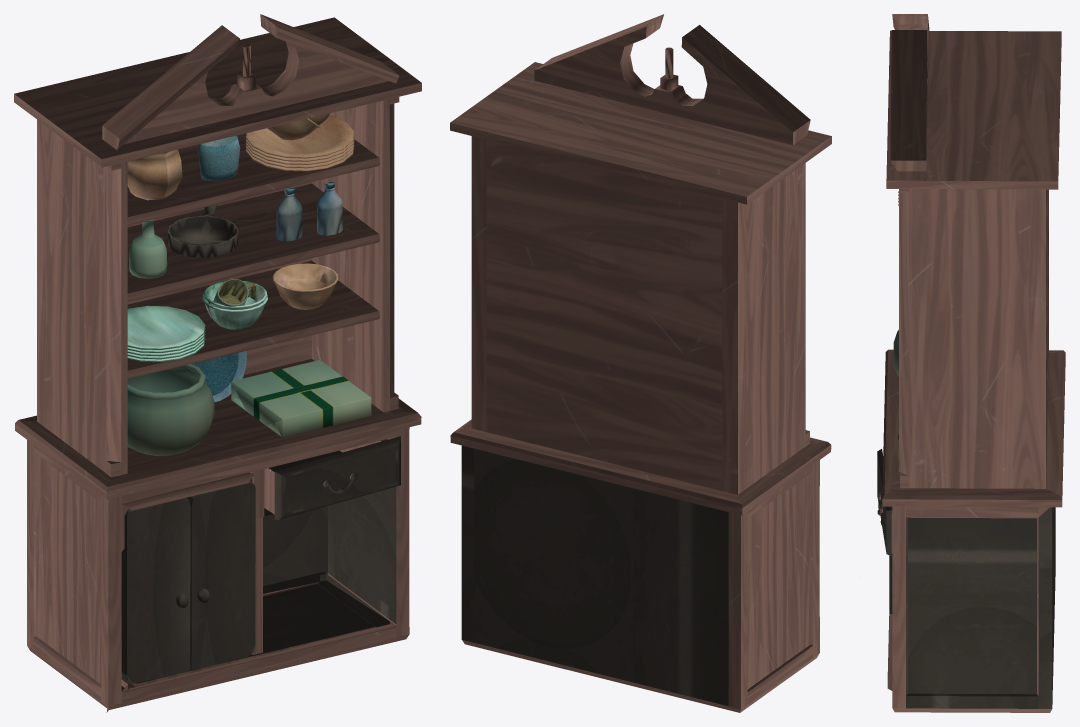
The model's file is Estante.obj.
The picture shows the model from 3 angles, left to right: view 1: azimuth 30°, elevation 25°; view 2: azimuth 150°, elevation 25°; view 3: azimuth 270°, elevation 25°; orthographic projection. The views are drawn at different scales.
Visible parts, largest first — view 1: FancyBureau01BASE_0, Cube, Mesh_0.014, giftbox_mis11_boxA01_box__A_giftbox_giftbox_mis11_boxA01_box__A, rdmobj01_model\om\om0, rdmobj01_model\om\om0.001, mdl_wpn200501_00_LOD0, bowl00__Bowl00.002, 628out, Model_GeneralStore_Bottle_02, Model_GeneralStore_Bottle_01, TeaPlate (+7 smaller); view 2: FancyBureau01BASE_0; view 3: FancyBureau01BASE_0.
Part boxes in pixels (bbox=[...]): FancyBureau01BASE_0: bbox=[14, 14, 421, 712]; Cube: bbox=[121, 481, 255, 683]; Mesh_0.014: bbox=[127, 364, 214, 456]; giftbox_mis11_boxA01_box__A_giftbox_giftbox_mis11_boxA01_box__A: bbox=[231, 360, 371, 437]; rdmobj01_model\om\om0: bbox=[245, 115, 354, 171]; rdmobj01_model\om\om0.001: bbox=[127, 305, 205, 362]; mdl_wpn200501_00_LOD0: bbox=[167, 204, 238, 257]; bowl00__Bowl00.002: bbox=[272, 263, 338, 309]; 628out: bbox=[127, 149, 182, 200]; Model_GeneralStore_Bottle_02: bbox=[129, 219, 167, 278]; Model_GeneralStore_Bottle_01: bbox=[198, 135, 240, 181]; TeaPlate: bbox=[191, 351, 246, 402]; FancyBureau01BASE_0: bbox=[450, 14, 831, 712]; FancyBureau01BASE_0: bbox=[877, 14, 1065, 712].
Size of the model in its own units: 5.97 by 11.56 by 3.44.
Materials: 10 (10 with a texture image).
